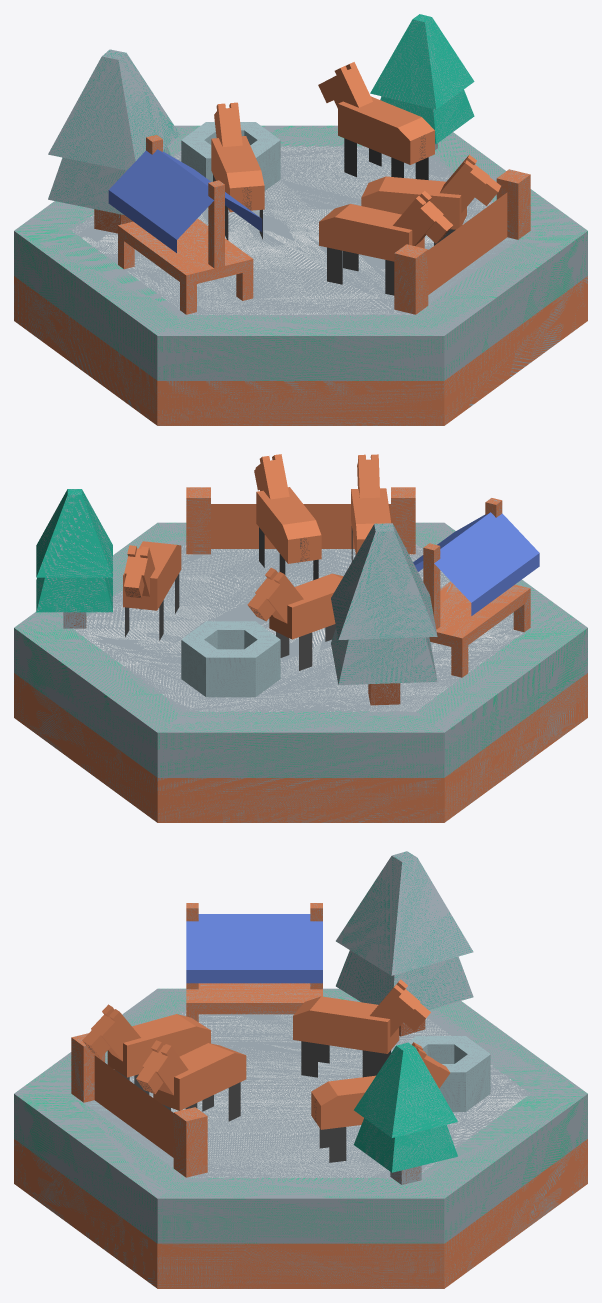
File: Horses.fbx
The picture shows the model from 3 angles, top to bottom: view 1: azimuth 30°, elevation 25°; view 2: azimuth 150°, elevation 25°; view 3: azimuth 270°, elevation 25°; orthographic projection.
Parts seen in each view (by area): view 1: Model, Group1, Group15, Group8, Group14, Group5, Group4, Group11, Group10, Group13, Group7, Group3; view 2: Model, Group1, Group15, Group5, Group11, Group4, Group8, Group3, Group14, Group7, Group10, Group13; view 3: Model, Group1, Group15, Group4, Group11, Group5, Group8, Group14, Group13, Group10, Group3.
Part boxes in pixels (x1,y1,x2,y2): Model: [14, 125, 587, 425]; Group1: [48, 49, 180, 233]; Group15: [370, 14, 474, 149]; Group8: [338, 96, 434, 179]; Group14: [319, 204, 424, 295]; Group5: [181, 122, 280, 190]; Group4: [211, 136, 264, 240]; Group11: [361, 176, 466, 245]; Group10: [440, 154, 500, 212]; Group13: [393, 191, 453, 245]; Group7: [318, 62, 372, 108]; Group3: [214, 102, 242, 146]; Model: [14, 487, 587, 822]; Group1: [331, 523, 437, 705]; Group15: [36, 489, 112, 628]; Group5: [181, 621, 280, 697]; Group11: [256, 487, 321, 580]; Group4: [269, 573, 343, 670]; Group8: [123, 541, 181, 640]; Group3: [247, 567, 303, 623]; Group14: [351, 488, 390, 561]; Group7: [123, 545, 154, 598]; Group10: [254, 454, 289, 499]; Group13: [357, 454, 380, 498]; Model: [14, 903, 587, 1288]; Group1: [336, 851, 473, 1036]; Group15: [353, 1042, 457, 1184]; Group4: [293, 996, 399, 1077]; Group11: [153, 1043, 246, 1121]; Group5: [407, 1036, 490, 1111]; Group8: [311, 1075, 375, 1162]; Group14: [107, 1014, 210, 1094]; Group13: [82, 1004, 140, 1061]; Group10: [136, 1040, 188, 1095]; Group3: [370, 979, 430, 1036].
Size of the model in its own units: 1.01 by 0.58 by 1.15.
